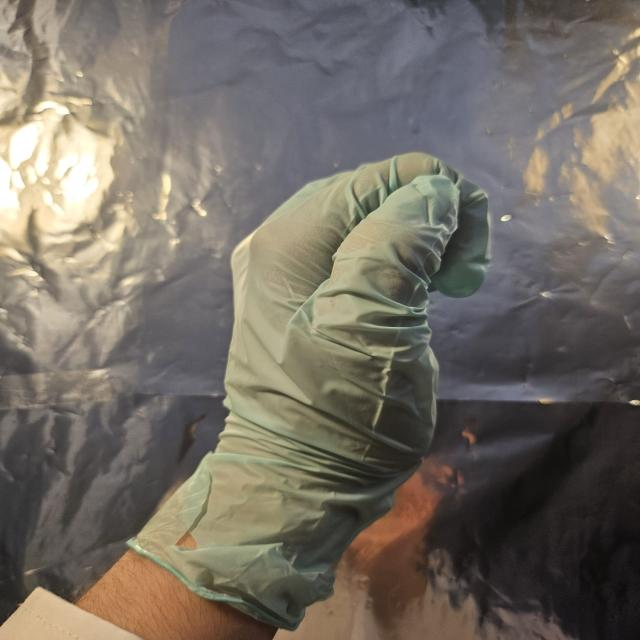gloves_damaged: (125, 151, 493, 630)
